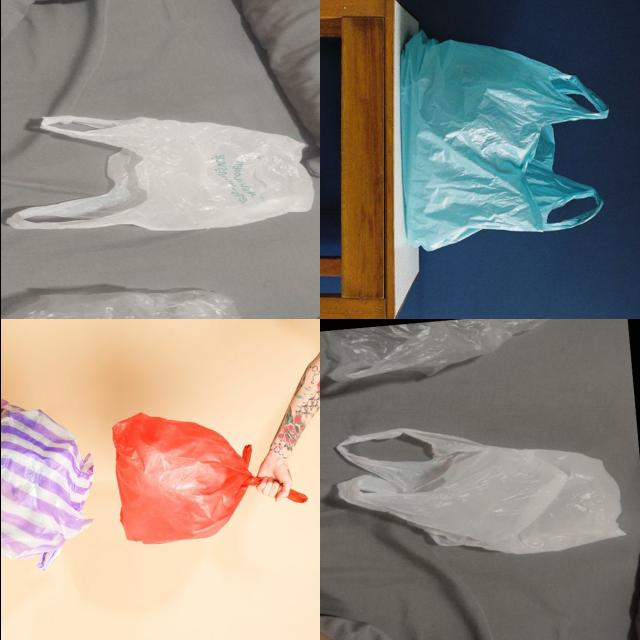plastik: (399, 32, 607, 251), (336, 428, 625, 554), (6, 115, 313, 231), (111, 413, 260, 544), (320, 319, 545, 393), (0, 401, 93, 569), (0, 289, 238, 319)
